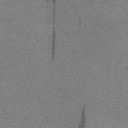red iron: (52, 0, 56, 60), (78, 105, 86, 128), (79, 19, 82, 26)
